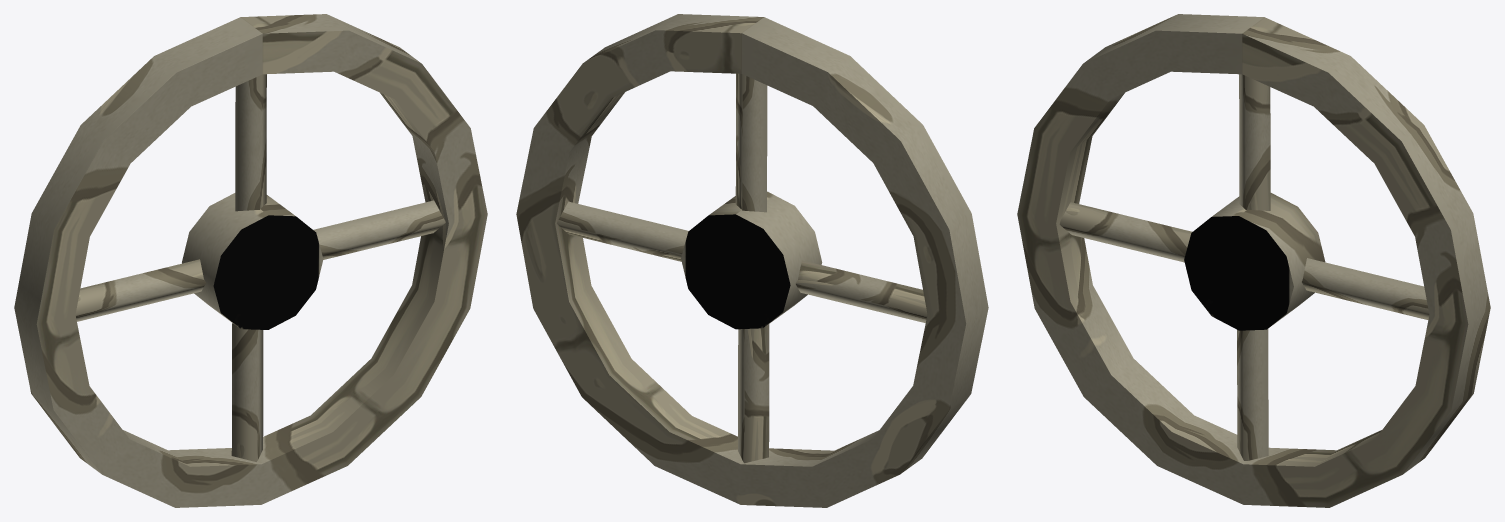
Rendered from Wheel.FBX.
The picture shows the model from 3 angles, left to right: view 1: azimuth 30°, elevation 25°; view 2: azimuth 150°, elevation 25°; view 3: azimuth 330°, elevation 25°; orthographic projection.
Parts seen in each view (by area): view 1: Wheel; view 2: Wheel; view 3: Wheel.
Part boxes in pixels (x1,y1,x2,y2): Wheel: (14,14,487,507); Wheel: (516,14,988,507); Wheel: (1017,14,1490,507).
Bounding box in the file's own units: 1.15 × 1.15 × 0.1413.
